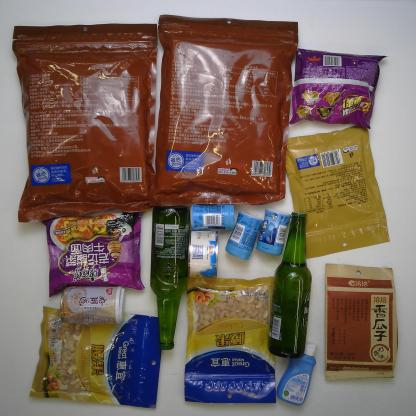Alcohol: (266, 212, 314, 360), (151, 205, 190, 352)
Canned Food: (59, 284, 129, 323), (188, 229, 220, 282)
Dried Food: (8, 19, 158, 224), (156, 13, 300, 208), (324, 262, 402, 382)
Dried Fruit: (284, 122, 390, 260), (30, 305, 163, 409), (180, 275, 280, 406)
Gum: (226, 212, 262, 260), (189, 200, 238, 233), (258, 209, 291, 258)
Instant Noodles: (45, 208, 145, 296), (290, 46, 386, 131)
Personal Hygiene: (276, 343, 317, 408)
